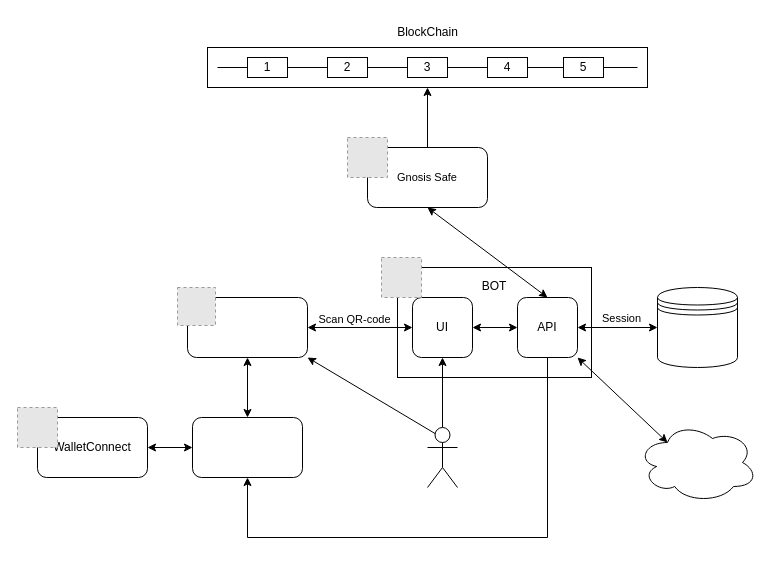
Some shapes in this 775 by 563 pixel diagram are drawn without their labels. Grey dashed boxes stand in for pictures. The shapes that lost their labels are listed below. From the top down, each one's box as (x1, y1, x2, y2) in pixels, then its label:
(186, 296, 308, 358): MetaMask
(656, 286, 738, 368): DataBase
(192, 416, 302, 478): Bridge server
(426, 426, 458, 488): User
(636, 422, 758, 502): Telegram API
